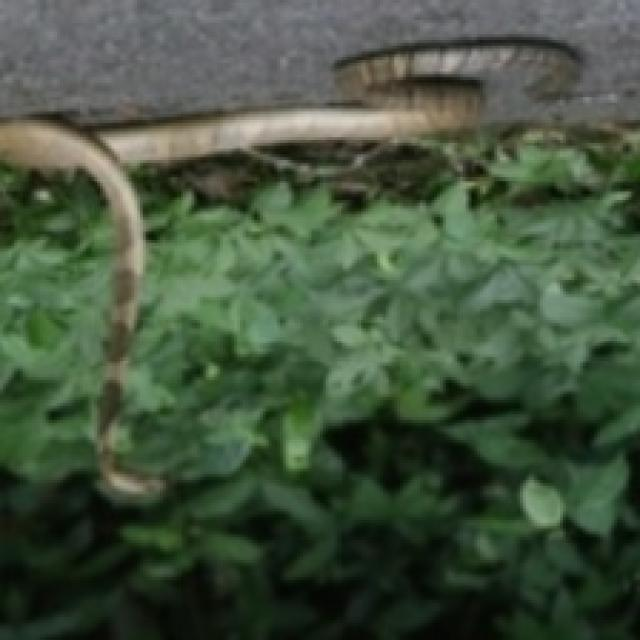king cobra: (0, 40, 574, 500)
